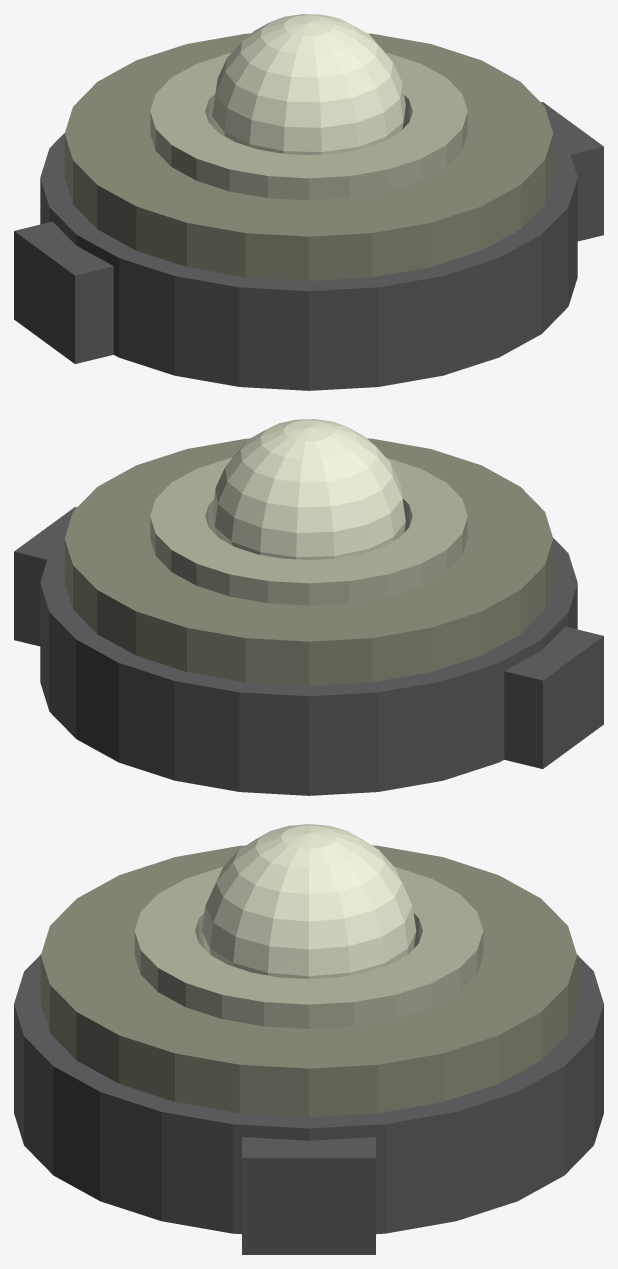
Rendered from vge_mech_vertex.obj.
The picture shows the model from 3 angles, top to bottom: view 1: azimuth 30°, elevation 25°; view 2: azimuth 150°, elevation 25°; view 3: azimuth 270°, elevation 25°; orthographic projection. The views are drawn at different scales.
Visible parts, largest first — view 1: vge_mech_vertex_3, vge_mech_vertex_0, vge_mech_vertex_4, vge_mech_vertex_5, vge_mech_vertex_1, vge_mech_vertex_2; view 2: vge_mech_vertex_3, vge_mech_vertex_0, vge_mech_vertex_4, vge_mech_vertex_5, vge_mech_vertex_1, vge_mech_vertex_2; view 3: vge_mech_vertex_3, vge_mech_vertex_0, vge_mech_vertex_4, vge_mech_vertex_5, vge_mech_vertex_2.
Boxes of the visible parts, <box> form: vge_mech_vertex_3: <box>64,33,553,280</box>; vge_mech_vertex_0: <box>40,133,577,390</box>; vge_mech_vertex_4: <box>150,52,467,200</box>; vge_mech_vertex_5: <box>212,14,405,154</box>; vge_mech_vertex_1: <box>14,221,113,363</box>; vge_mech_vertex_2: <box>541,102,603,241</box>; vge_mech_vertex_3: <box>64,438,553,685</box>; vge_mech_vertex_0: <box>40,538,577,795</box>; vge_mech_vertex_4: <box>150,457,467,605</box>; vge_mech_vertex_5: <box>212,419,405,559</box>; vge_mech_vertex_1: <box>504,626,603,768</box>; vge_mech_vertex_2: <box>14,507,76,646</box>; vge_mech_vertex_3: <box>40,845,577,1117</box>; vge_mech_vertex_0: <box>14,954,603,1234</box>; vge_mech_vertex_4: <box>134,867,483,1028</box>; vge_mech_vertex_5: <box>201,824,416,978</box>; vge_mech_vertex_2: <box>242,1137,375,1254</box>.
Bounding box in the file's own units: 1 × 0.46 × 0.88.
